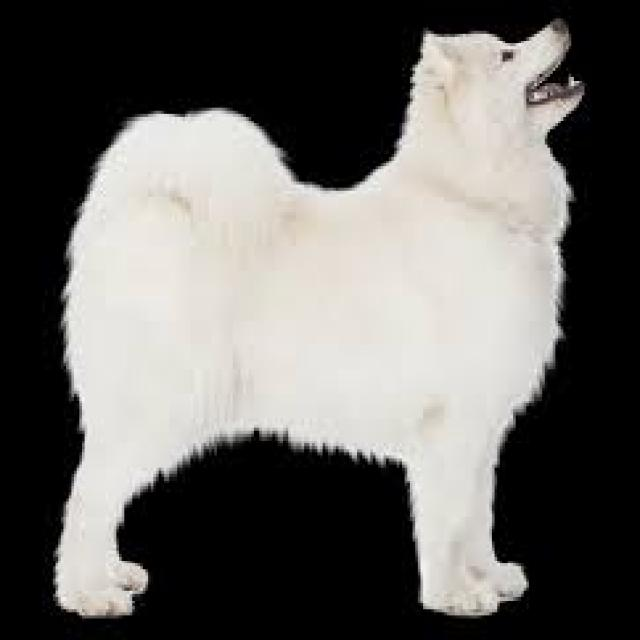dogs: (54, 16, 585, 618)
